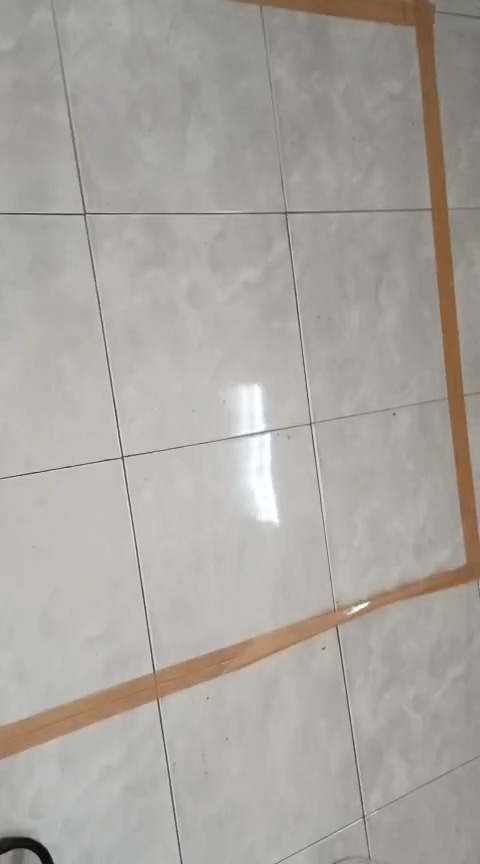floor marking: (0, 0, 479, 758)
